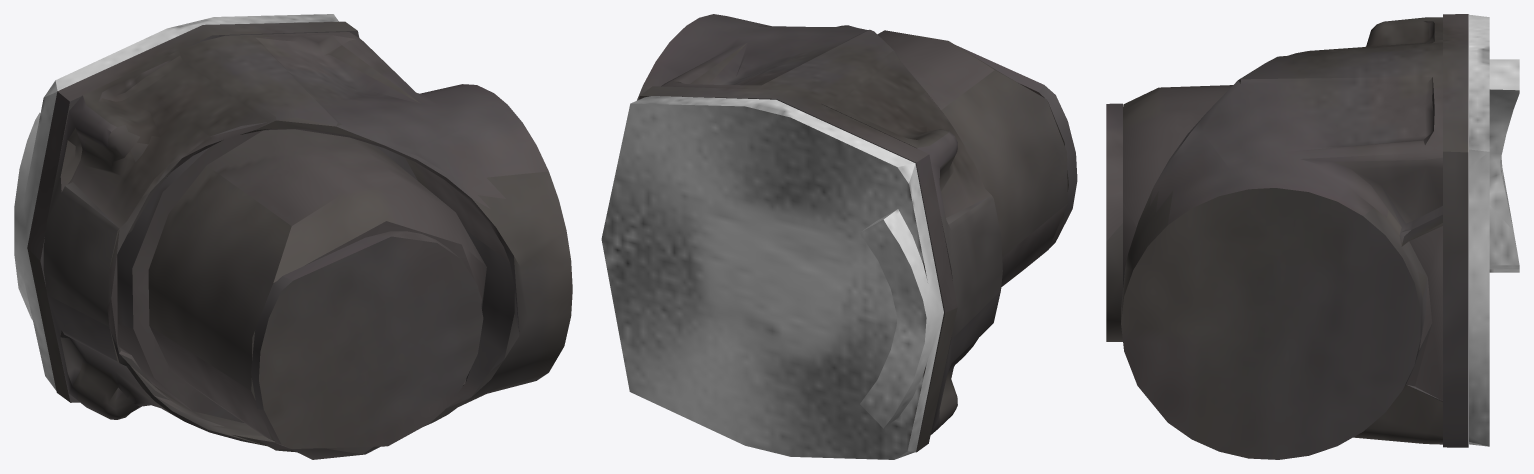
The model's file is hl_hip.dae.
3 views of the same model, side by side, from view 1: azimuth 30°, elevation 25°; view 2: azimuth 150°, elevation 25°; view 3: azimuth 270°, elevation 25° (orthographic). The views are drawn at different scales.
Parts seen in each view (by area): view 1: hl_hip; view 2: hl_hip; view 3: hl_hip.
Part boxes in pixels (bbox=[...]): hl_hip: bbox=[14, 14, 572, 459]; hl_hip: bbox=[601, 14, 1077, 459]; hl_hip: bbox=[1106, 14, 1519, 459].
Size of the model in its own units: 0.1013 by 0.1003 by 0.0956.
Materials: 1 (1 with a texture image).
